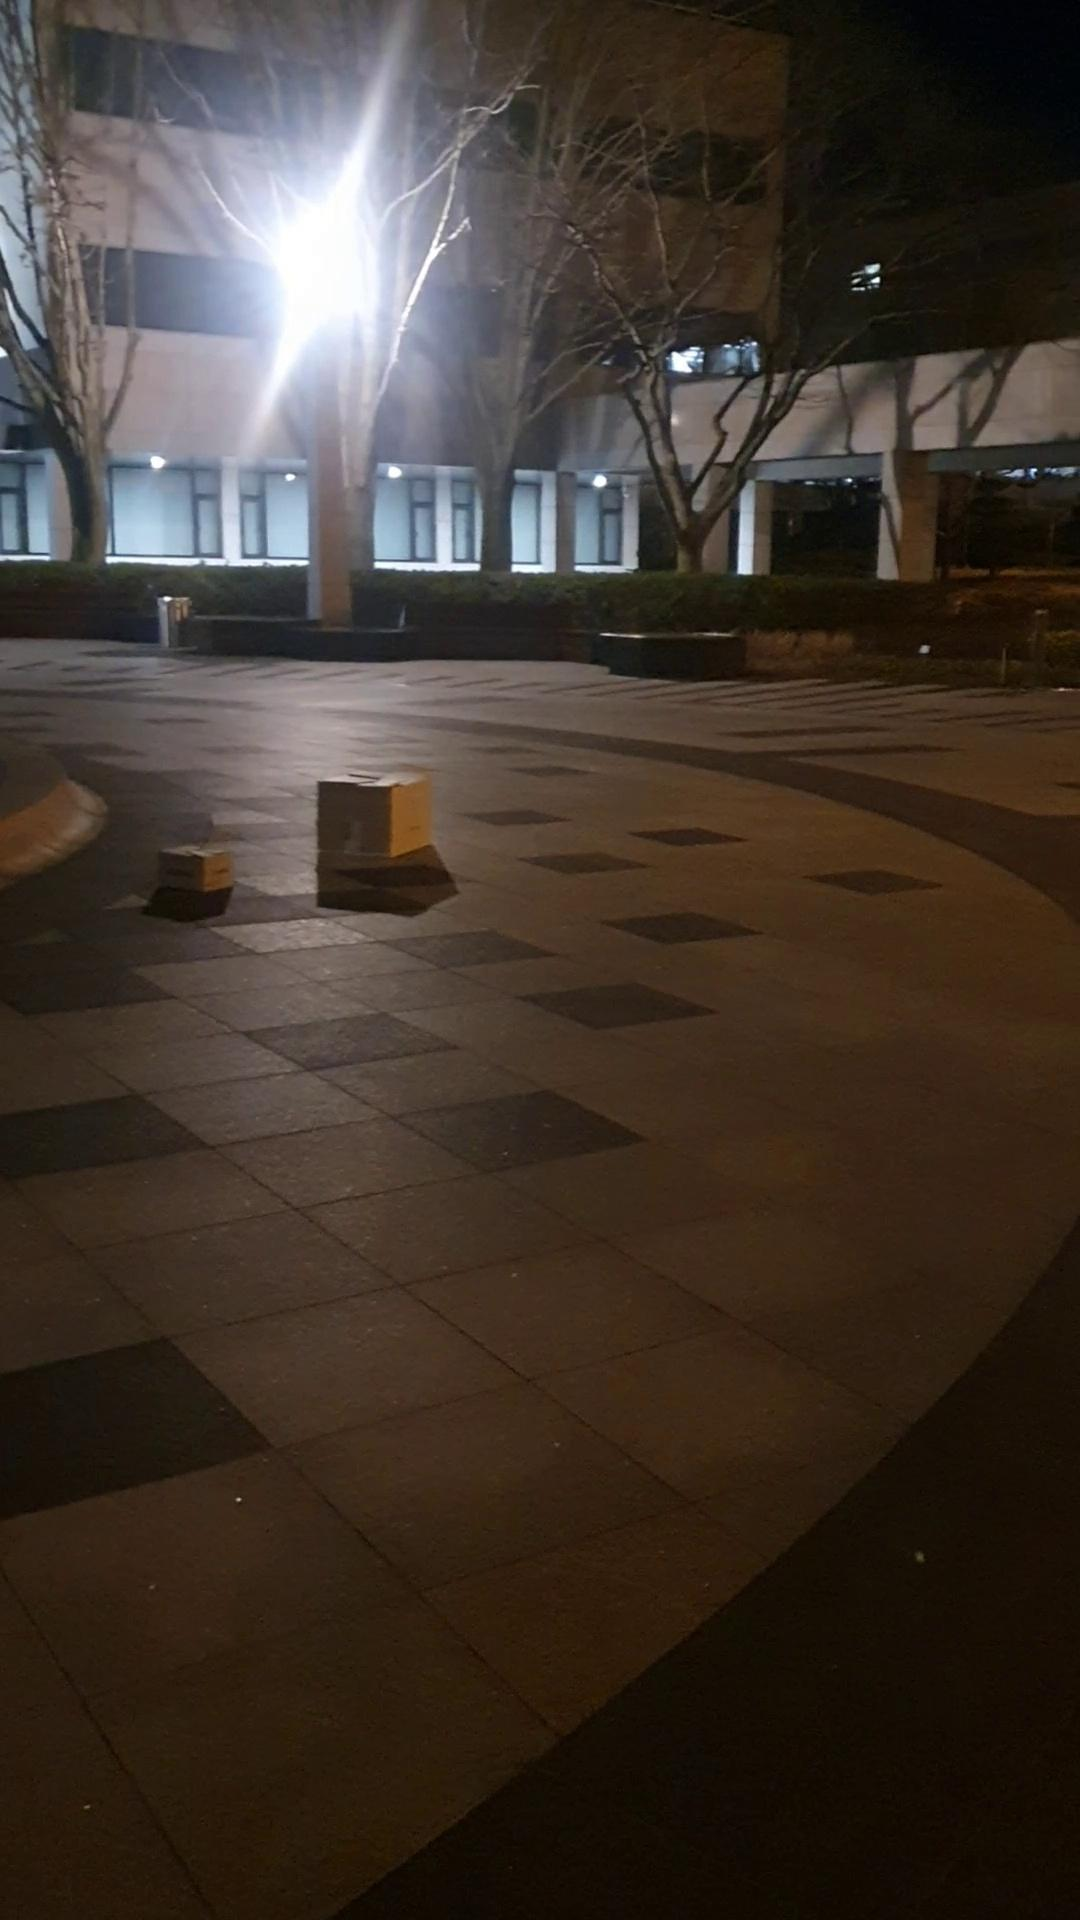Box: (313, 765, 427, 870), (152, 825, 233, 907)
